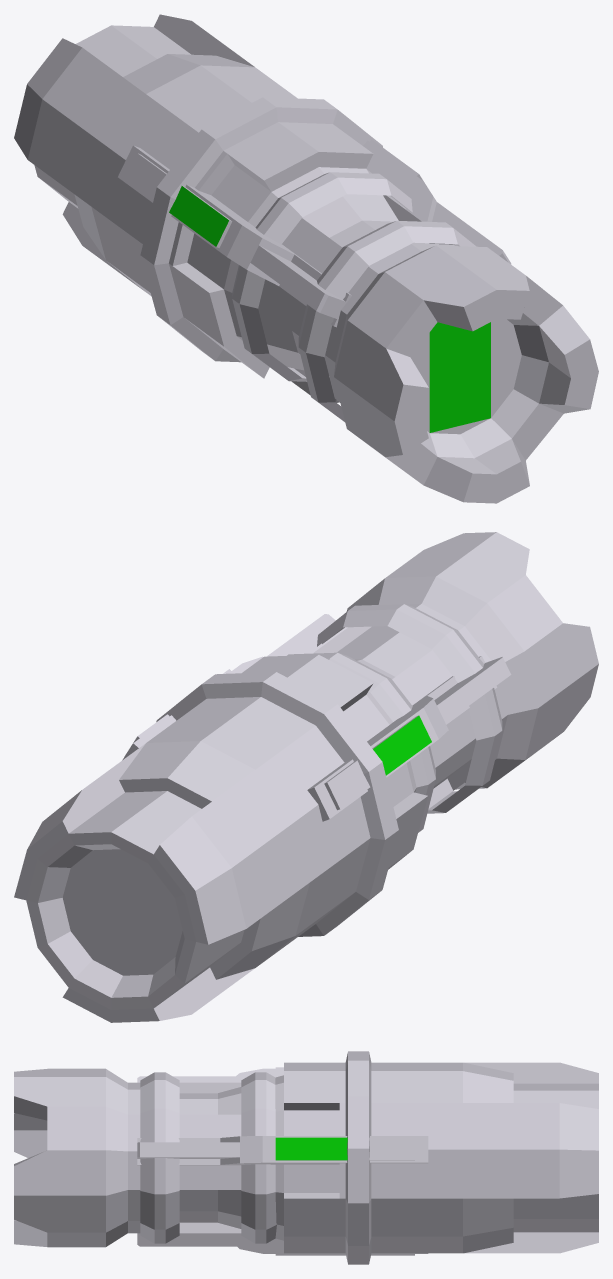
Rendered from hull.tube.fbx.
3 renders of one model, top to bottom at view 1: azimuth 30°, elevation 25°; view 2: azimuth 150°, elevation 25°; view 3: azimuth 270°, elevation 25°, orthographic. The views are drawn at different scales.
Visible parts, largest first — view 1: hull.tube; view 2: hull.tube; view 3: hull.tube.
Boxes of the visible parts, <box> form: hull.tube: <box>14,14,598,503</box>; hull.tube: <box>14,532,598,1022</box>; hull.tube: <box>14,1051,598,1264</box>.
Size of the model in its own units: 5.52 by 5.52 by 15.05.
